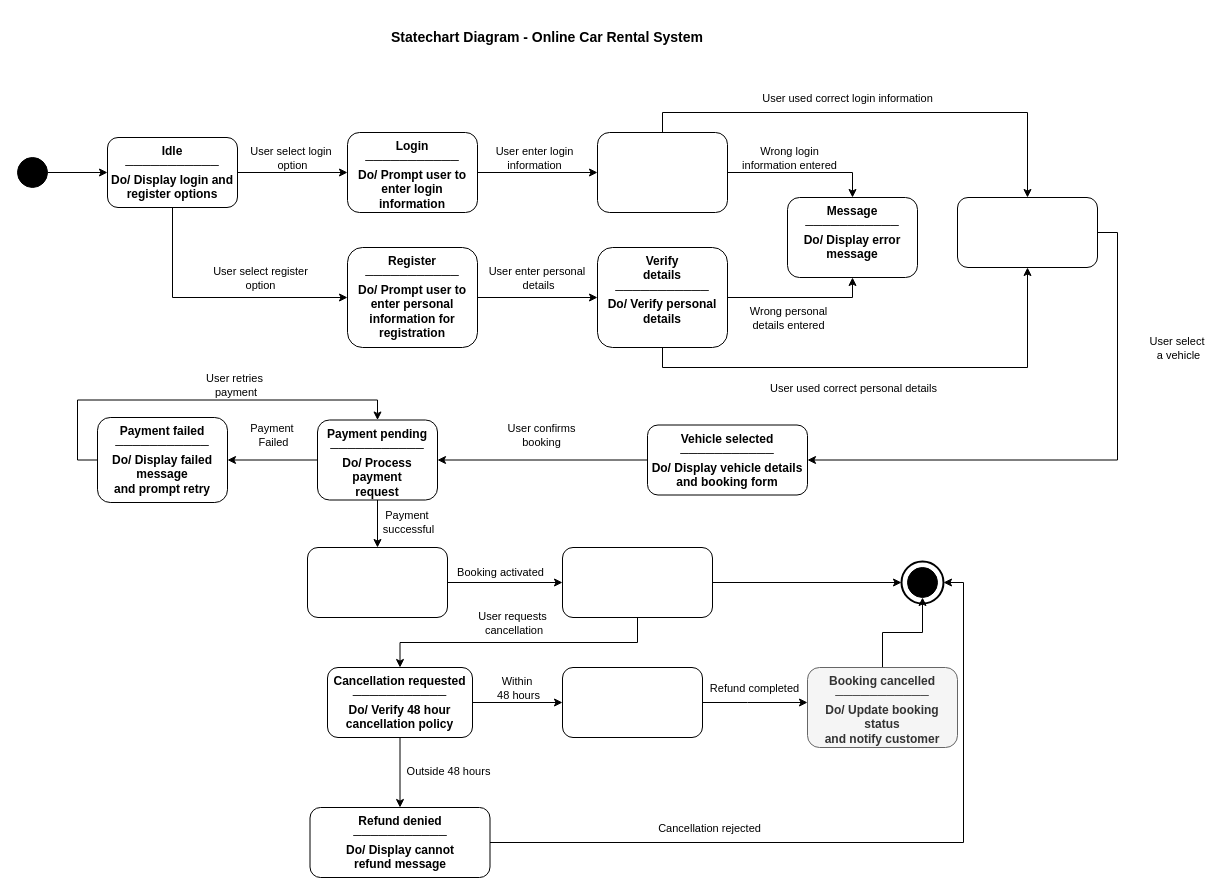
This 1225x895 diagram has some shape labels left out. The shapes that lost their labels are listed below. From the top down, each one's centre as x and y in pixels, then its label:
At point (662, 172): "Verify l ogin ─────────── Do/ Verify login information".
At point (1027, 232): "Browsing ─────────── Do/ Display available vehicle categories".
At point (377, 582): "Booking confirmed ─────────── Do/ Save booking and display confirmation".
At point (637, 582): "Booking active ─────────── Do/ Display active booking details".
At point (632, 702): "Refund processing ─────────── Do/ Process refund to customer account".
